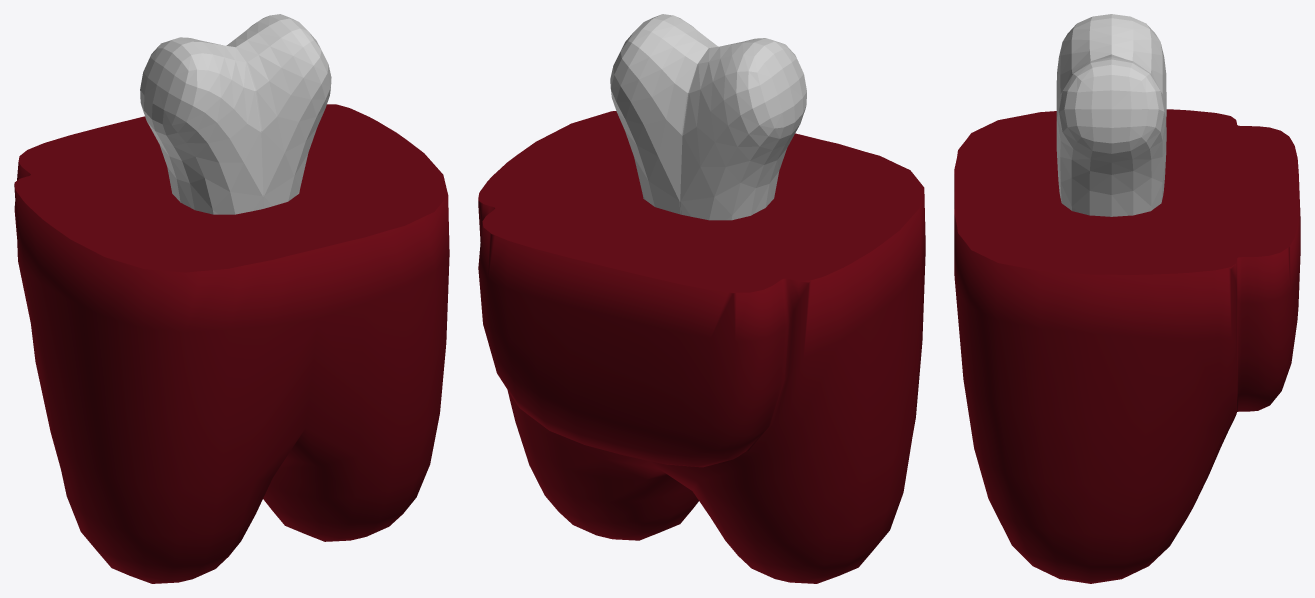
The model's file is dead_body.obj.
3 renders of one model, left to right at view 1: azimuth 30°, elevation 25°; view 2: azimuth 150°, elevation 25°; view 3: azimuth 270°, elevation 25°, orthographic. The views are drawn at different scales.
Visible parts, largest first — view 1: Cube, Os_Cube.002; view 2: Cube, Os_Cube.002; view 3: Cube, Os_Cube.002.
Part boxes in pixels (box(x1,y1,x2,y2)): Cube: box(14, 104, 449, 583); Os_Cube.002: box(140, 14, 331, 214); Cube: box(478, 111, 925, 583); Os_Cube.002: box(610, 14, 806, 220); Cube: box(954, 109, 1300, 583); Os_Cube.002: box(1056, 14, 1166, 216).
Size of the model in its own units: 1.25 by 1.74 by 1.1.
